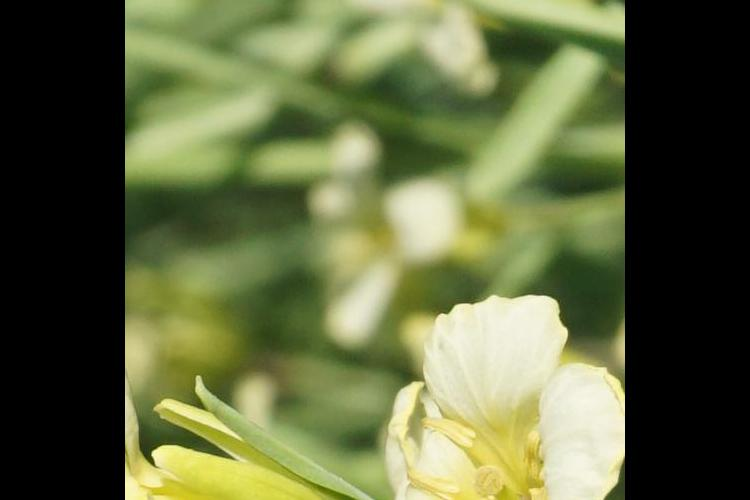white: (403, 288, 612, 500)
yellow: (135, 434, 351, 500)
